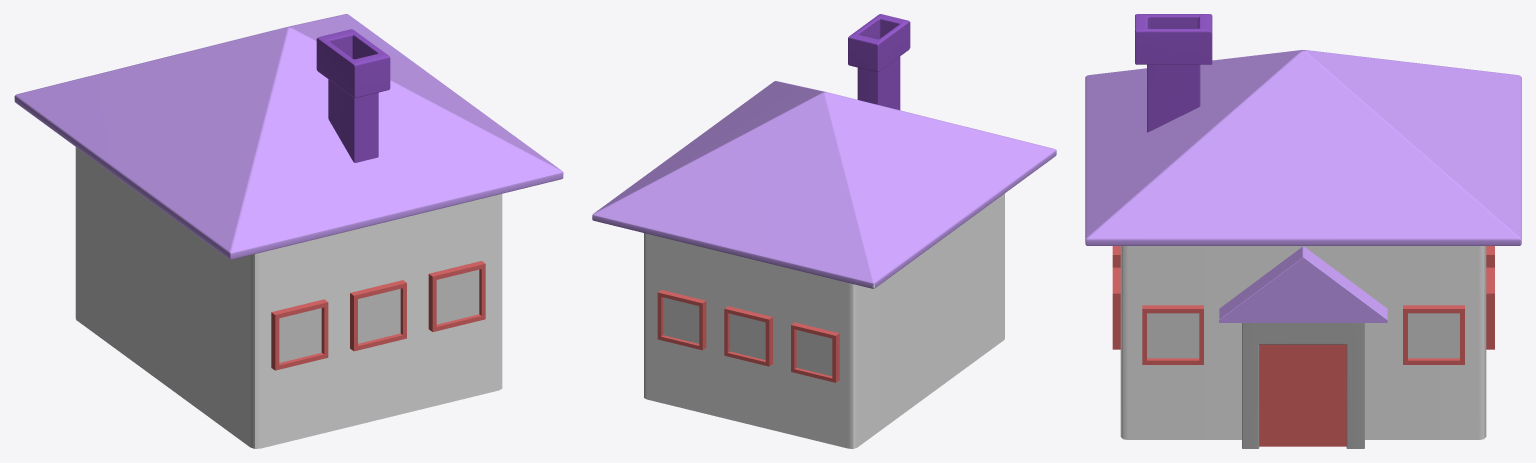
File: house5.fbx
The picture shows the model from 3 angles, left to right: view 1: azimuth 30°, elevation 25°; view 2: azimuth 150°, elevation 25°; view 3: azimuth 270°, elevation 25°; orthographic projection. The views are drawn at different scales.
Visible parts, largest first — view 1: house_orange_mesh; view 2: house_orange_mesh; view 3: house_orange_mesh.
Part boxes in pixels (x1,y1,x2,y2): house_orange_mesh: (14,14,563,448); house_orange_mesh: (592,14,1056,448); house_orange_mesh: (1085,14,1521,448).
Size of the model in its own units: 4.83 by 4.89 by 5.42.
